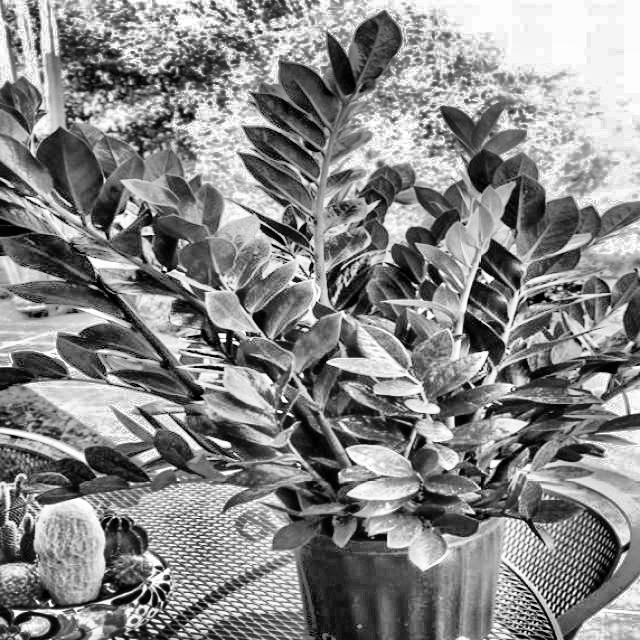plants: (37, 75, 640, 512)
